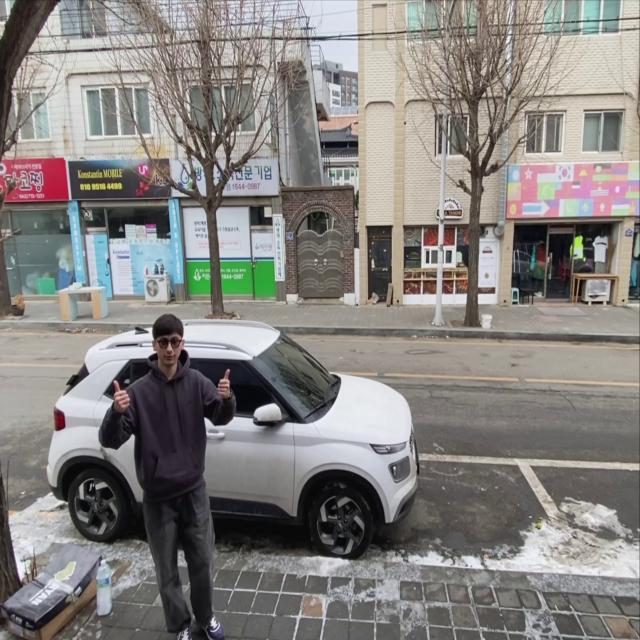bare_hand: (212, 365, 234, 400), (114, 378, 130, 411)
